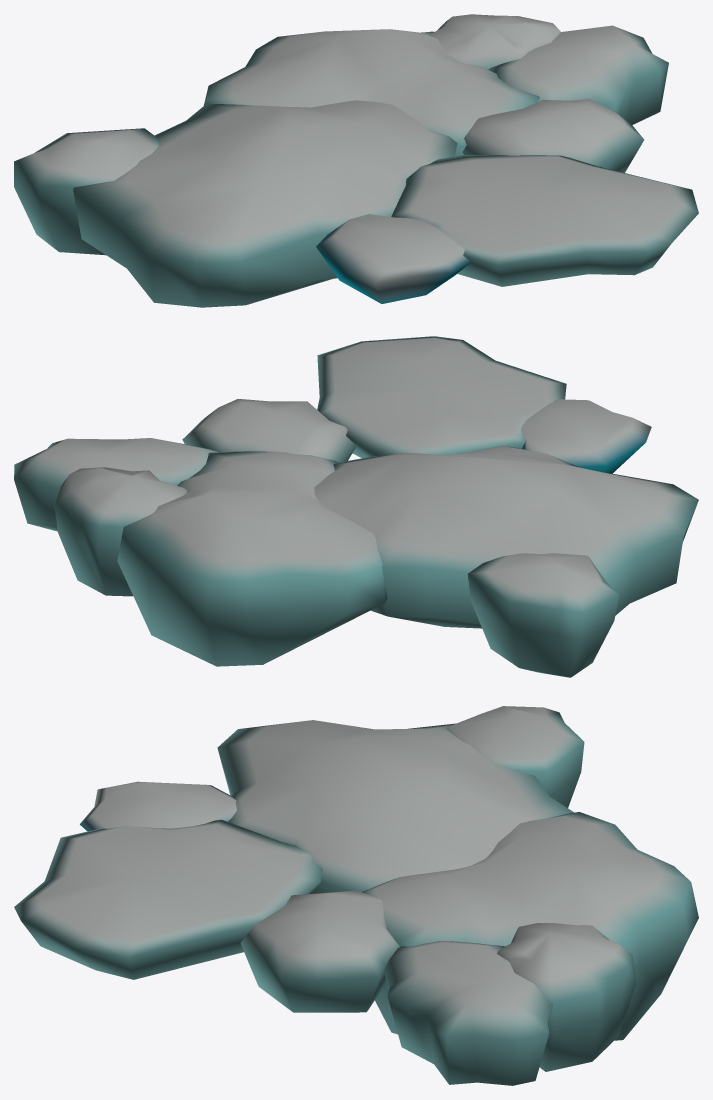
The picture shows the model from 3 angles, top to bottom: view 1: azimuth 30°, elevation 25°; view 2: azimuth 150°, elevation 25°; view 3: azimuth 270°, elevation 25°; orthographic projection. The views are drawn at different scales.
Visible parts, largest first — view 1: G:\FFXIV-MapTools\exports\y6t1\bg\ex5\02_ykt_y6\twn\y6t1\bgp; view 2: G:\FFXIV-MapTools\exports\y6t1\bg\ex5\02_ykt_y6\twn\y6t1\bgp; view 3: G:\FFXIV-MapTools\exports\y6t1\bg\ex5\02_ykt_y6\twn\y6t1\bgp.
Boxes of the visible parts, x1,y1,x2,y2 form: G:\FFXIV-MapTools\exports\y6t1\bg\ex5\02_ykt_y6\twn\y6t1\bgp: (14, 14, 698, 307); G:\FFXIV-MapTools\exports\y6t1\bg\ex5\02_ykt_y6\twn\y6t1\bgp: (14, 336, 698, 677); G:\FFXIV-MapTools\exports\y6t1\bg\ex5\02_ykt_y6\twn\y6t1\bgp: (14, 706, 698, 1085).
Bounding box in the file's own units: 27.7 × 7.07 × 24.97.
